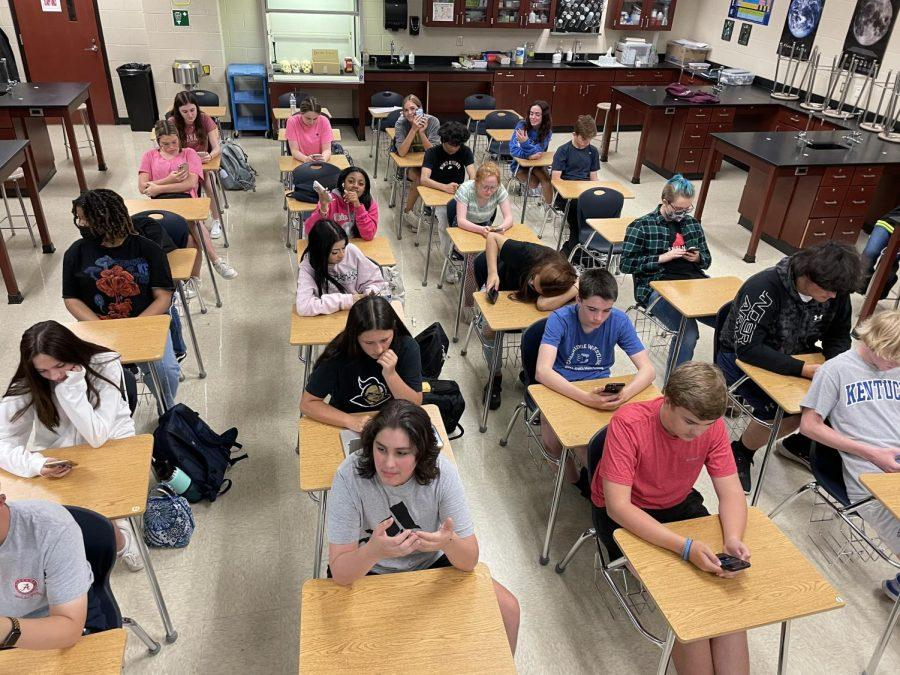phone: (594, 360, 752, 581), (0, 318, 131, 476), (798, 309, 900, 480), (535, 273, 653, 409), (625, 175, 712, 281), (137, 121, 202, 201), (310, 169, 376, 246), (455, 163, 512, 234), (286, 99, 333, 166), (391, 93, 441, 153), (509, 101, 551, 160)
